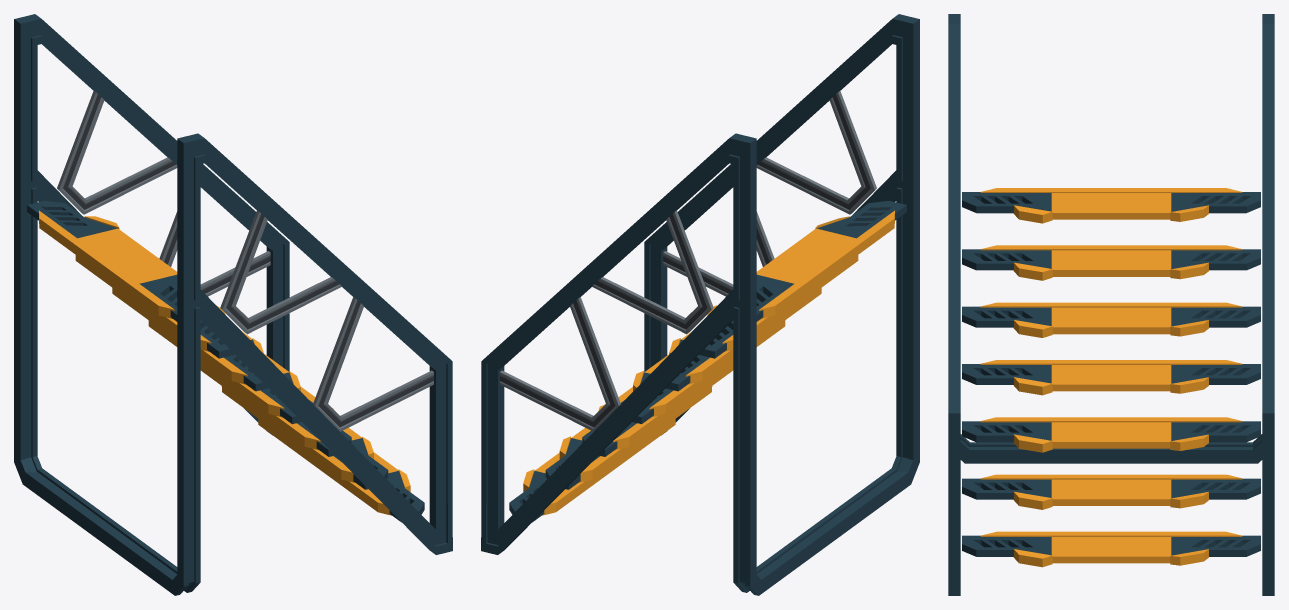
Rendered from SM_Stairs_2.glb.
3 views of the same model, side by side, from view 1: azimuth 30°, elevation 25°; view 2: azimuth 150°, elevation 25°; view 3: azimuth 270°, elevation 25° (orthographic). The views are drawn at different scales.
Visible parts, largest first — view 1: SM_Stairs_2; view 2: SM_Stairs_2; view 3: SM_Stairs_2.
Part boxes in pixels (x1,y1,x2,y2): SM_Stairs_2: (14, 14, 452, 595); SM_Stairs_2: (481, 14, 919, 595); SM_Stairs_2: (948, 14, 1274, 595).
Size of the model in its own units: 2.02 by 3.36 by 2.18.
Materials: 1 (1 with a texture image).
